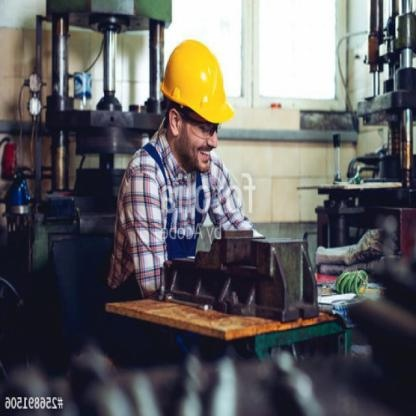yellow: (158, 32, 240, 119)
